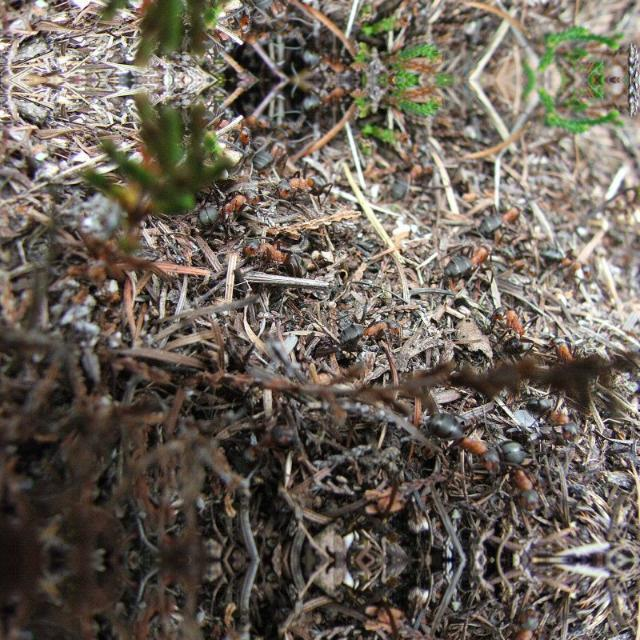Formica: (494, 434, 558, 522), (516, 227, 604, 277), (430, 423, 502, 481), (337, 303, 419, 353), (262, 162, 342, 212), (536, 388, 594, 454), (247, 231, 321, 279), (494, 293, 546, 361), (431, 232, 505, 278), (477, 188, 541, 236), (293, 80, 361, 122), (293, 38, 361, 80), (188, 187, 254, 229), (494, 598, 558, 640), (244, 130, 304, 168), (550, 328, 594, 379), (242, 0, 302, 28)
